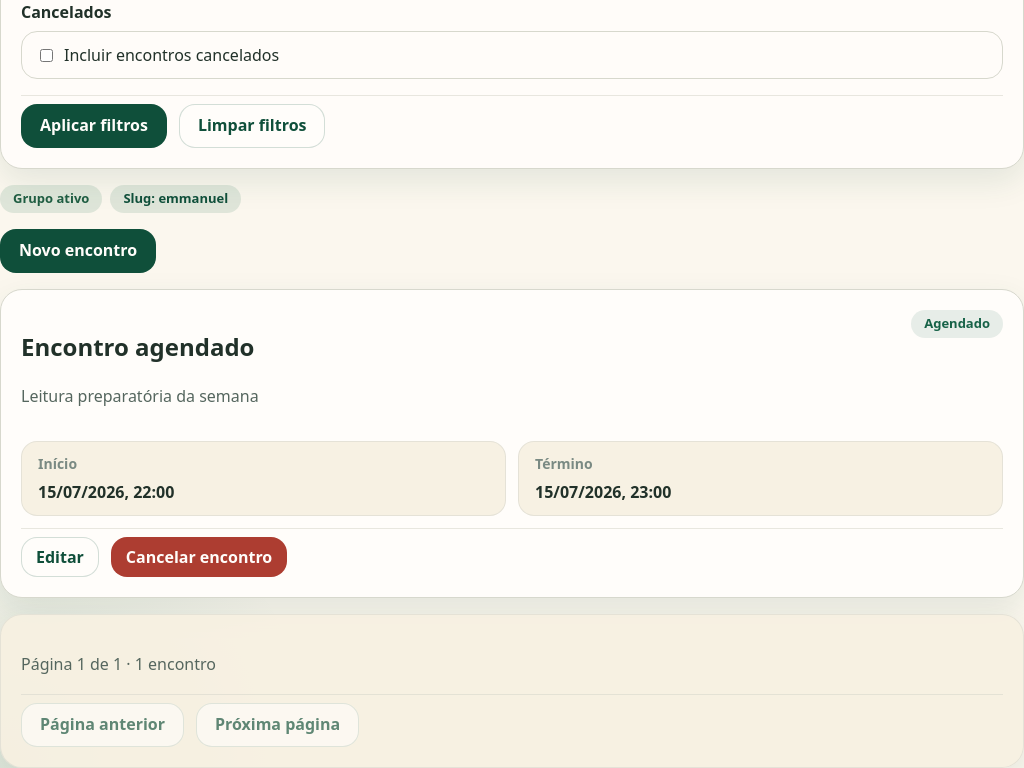
Test case: AdminGroupsPage dialog accessibility › dialog de cancelamento devolve foco ao botão de origem após sucesso
The image size is (1024, 768).
(page scrolled)
Expected: the heading "Encontro agendado" is shown, x1=21 y1=330 x2=259 y2=363
Click the button "Cancelar encontro" at (199, 557), box x1=111 y1=537 x2=287 y2=577
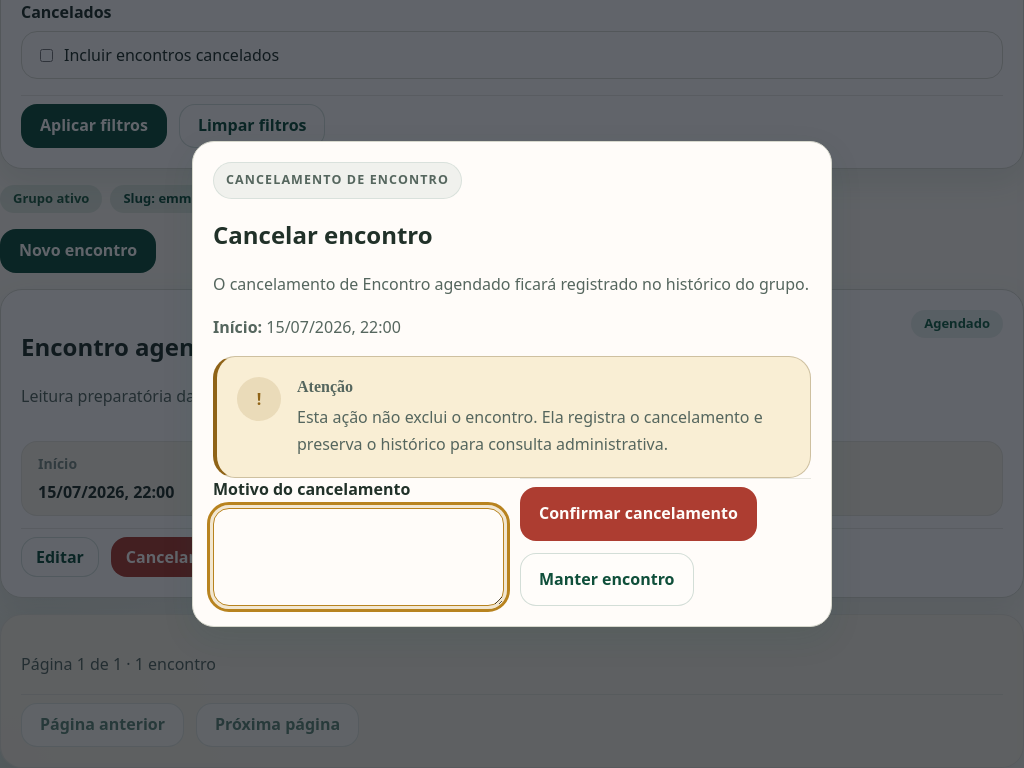
Type "Recesso" into the text box with id "admin-meeting-cancellation-reason" at (358, 557), box x1=213 y1=508 x2=504 y2=606
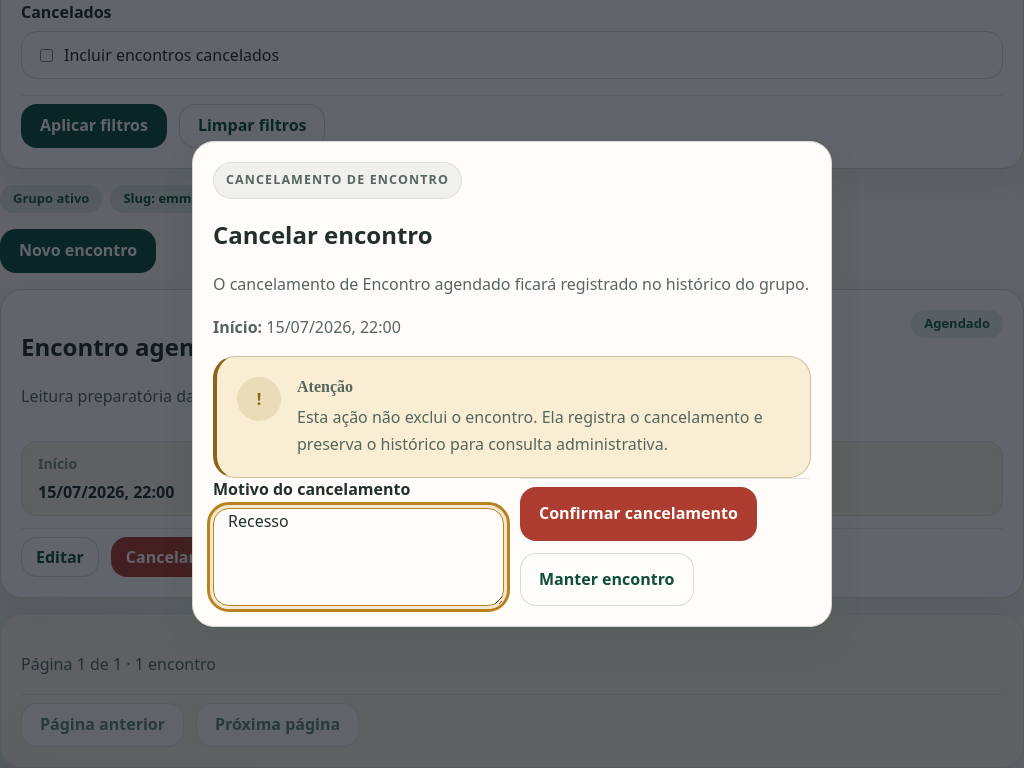
Click the button "Confirmar cancelamento" at (638, 514), box x1=520 y1=487 x2=757 y2=541
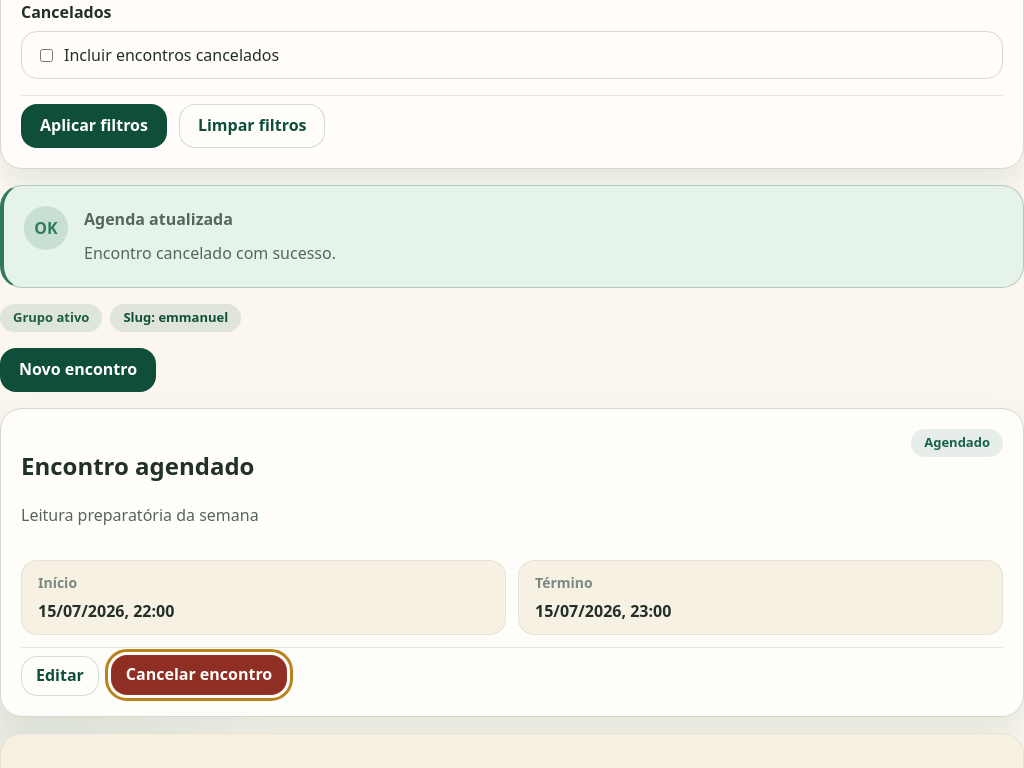
Result: the text "Encontro cancelado com sucesso." is shown at x1=84 y1=242 x2=336 y2=264
